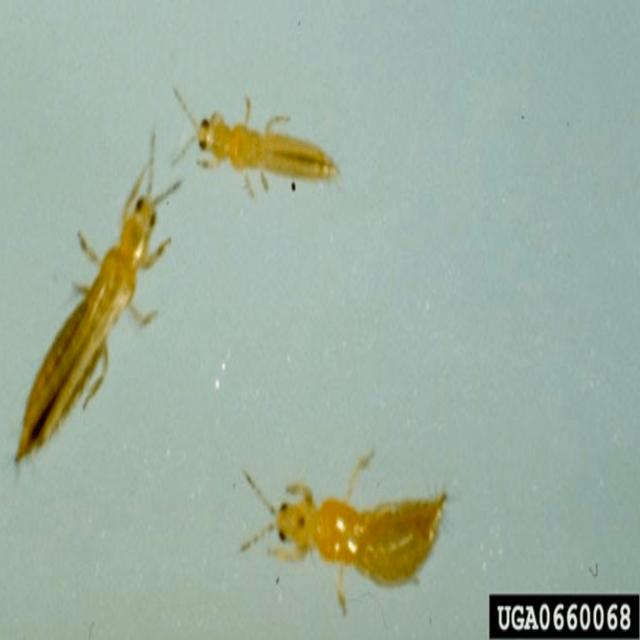Thrip-Adult-: (12, 122, 184, 471), (223, 440, 458, 614), (167, 80, 354, 204)
